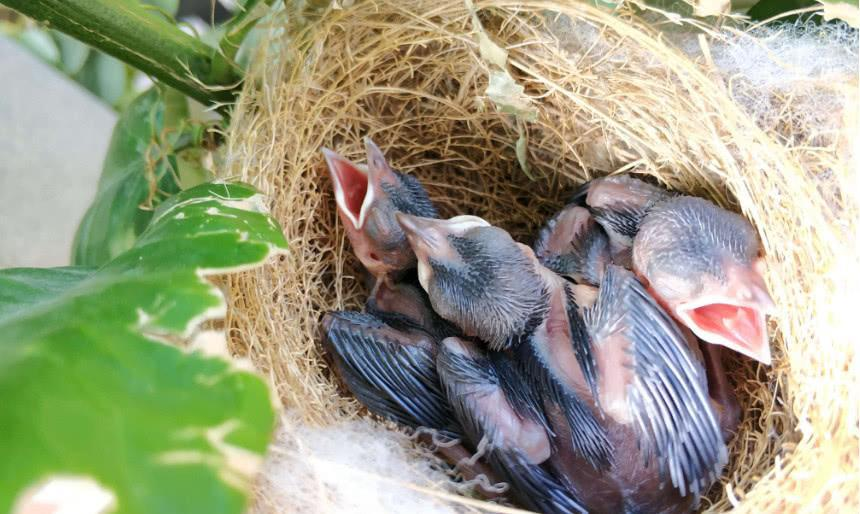bird-nest: (216, 1, 846, 514)
